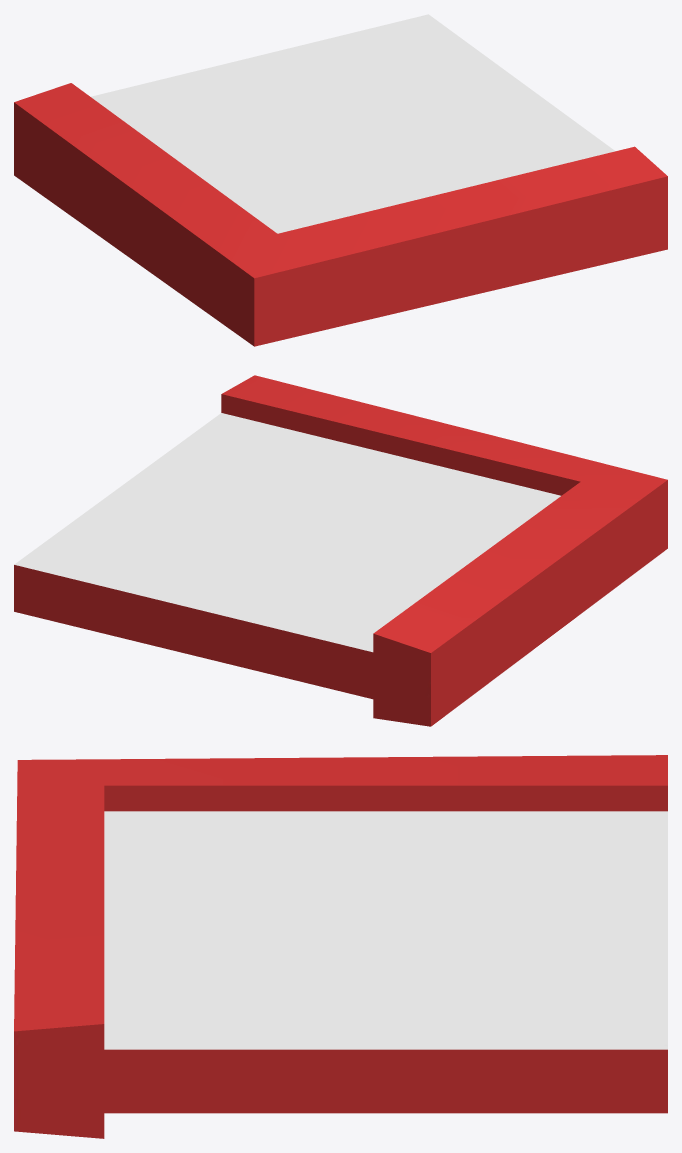
File: Cleptomaniac MarktMedia Roof (Corner).FBX
3 renders of one model, top to bottom at view 1: azimuth 30°, elevation 25°; view 2: azimuth 150°, elevation 25°; view 3: azimuth 270°, elevation 25°, orthographic. The views are drawn at different scales.
Parts seen in each view (by area): view 1: Roof (Corner); view 2: Roof (Corner); view 3: Roof (Corner).
Boxes of the visible parts, x1=… form: Roof (Corner): x1=14, y1=14, x2=667, y2=346; Roof (Corner): x1=14, y1=375, x2=667, y2=726; Roof (Corner): x1=14, y1=755, x2=667, y2=1138.
Bounding box in the file's own units: 2.32 × 0.45 × 2.32.
